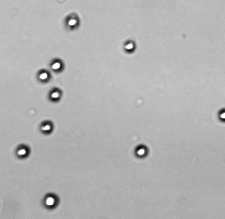Living Cell: (62, 12, 82, 30), (42, 191, 60, 209), (14, 142, 31, 160), (133, 142, 150, 160), (121, 37, 138, 54), (46, 86, 63, 103), (38, 119, 55, 136), (36, 67, 52, 83), (50, 56, 65, 73)
